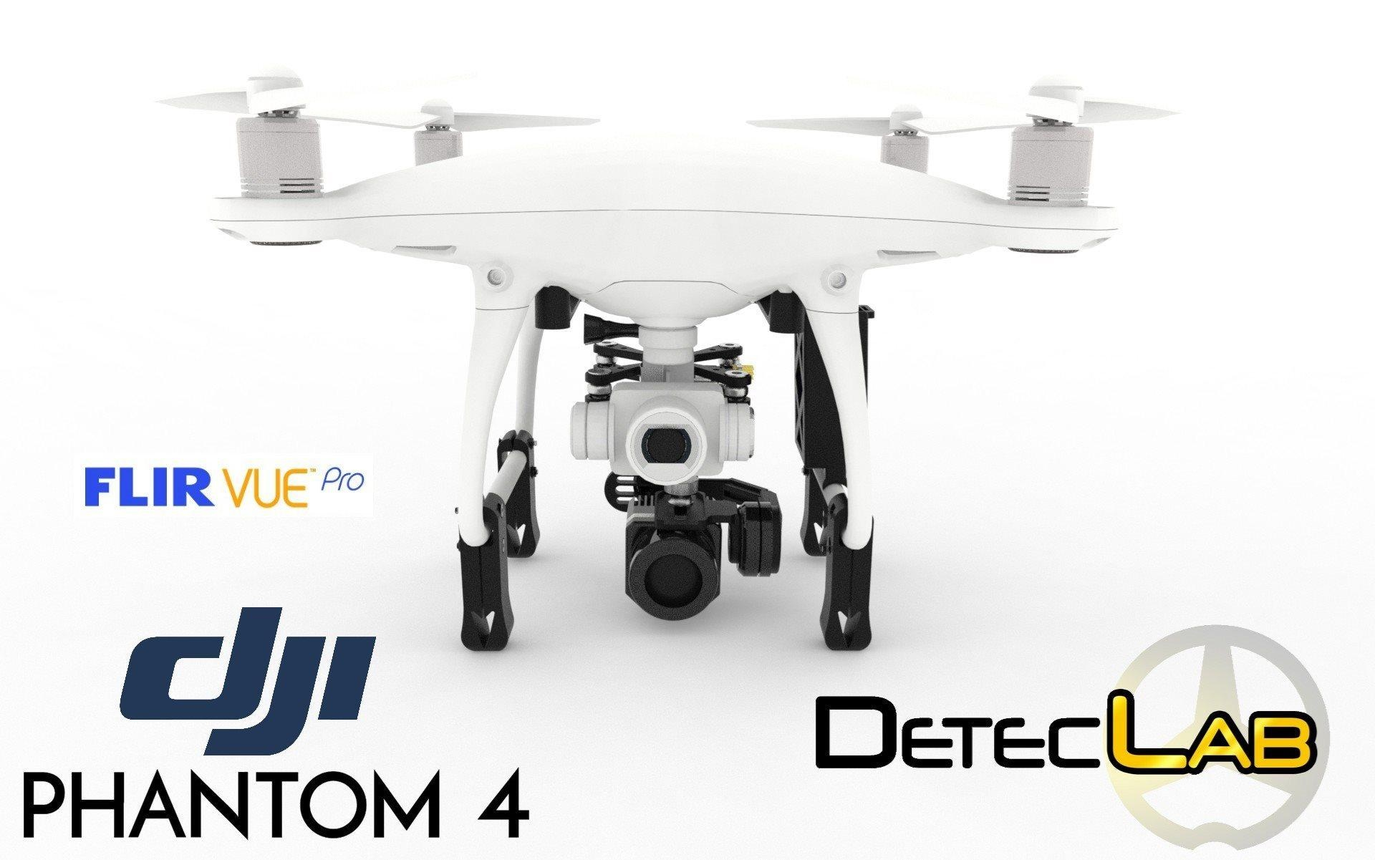aircraft: (125, 97, 1166, 656)
